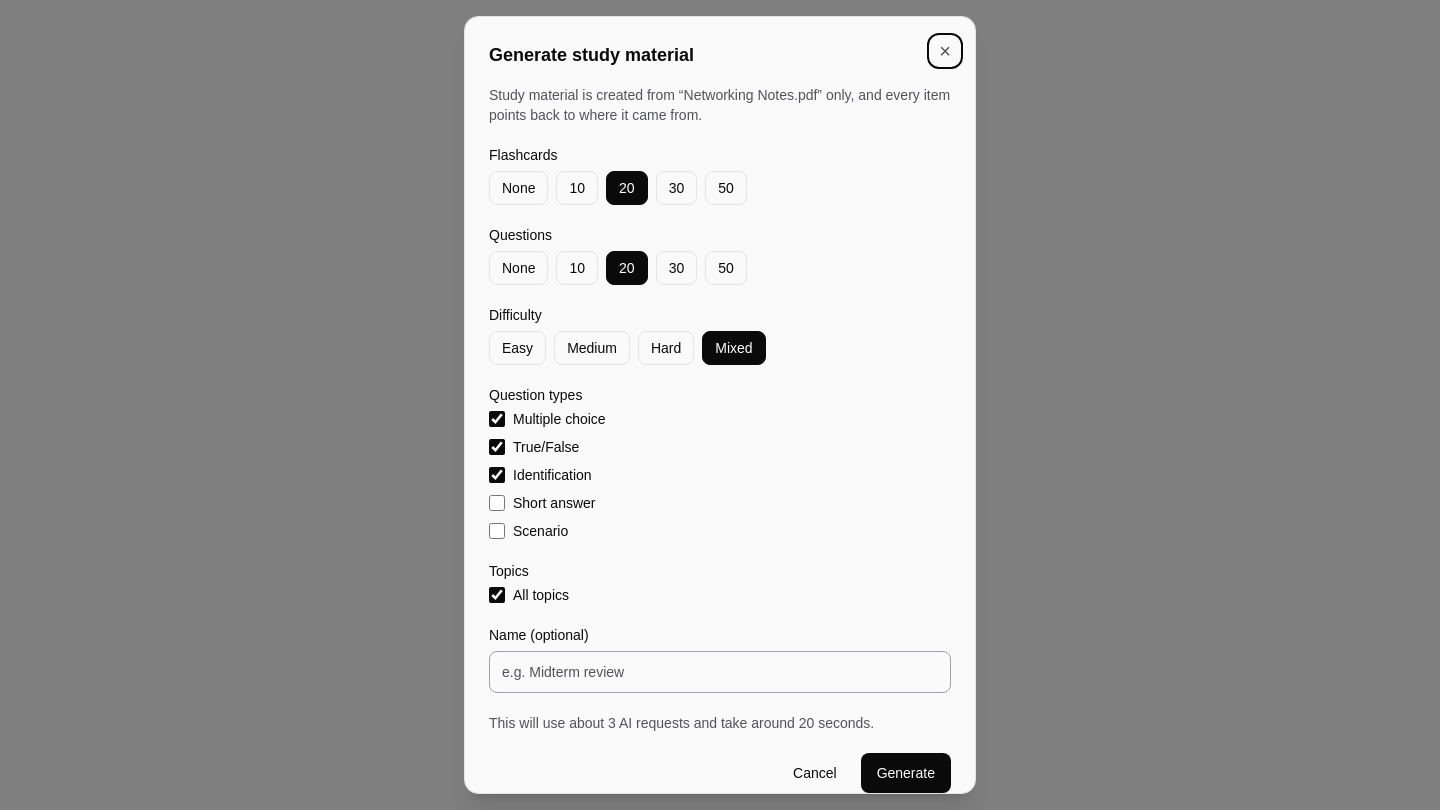
Scenario: GenerateModal › picking no specific topic (with All topics off) blocks submit
Click the checkbox labelled "All topics" at (497, 595), box [489,587,505,603]
(page scrolled)
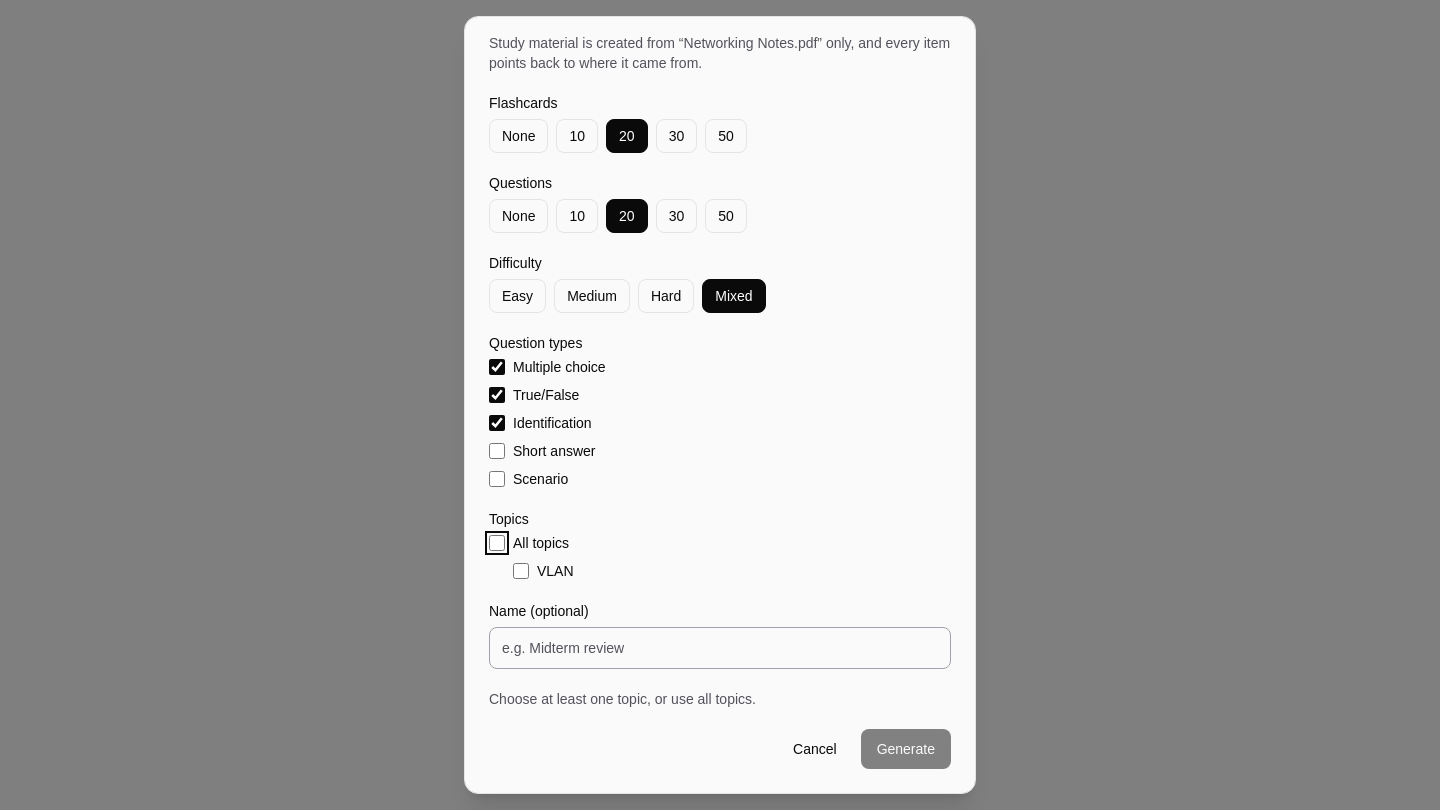
Now the text "Choose at least one topic, or use all topics." is shown, box [489,691,756,707]
Now the button "Generate" is disabled, box [861,729,951,769]
